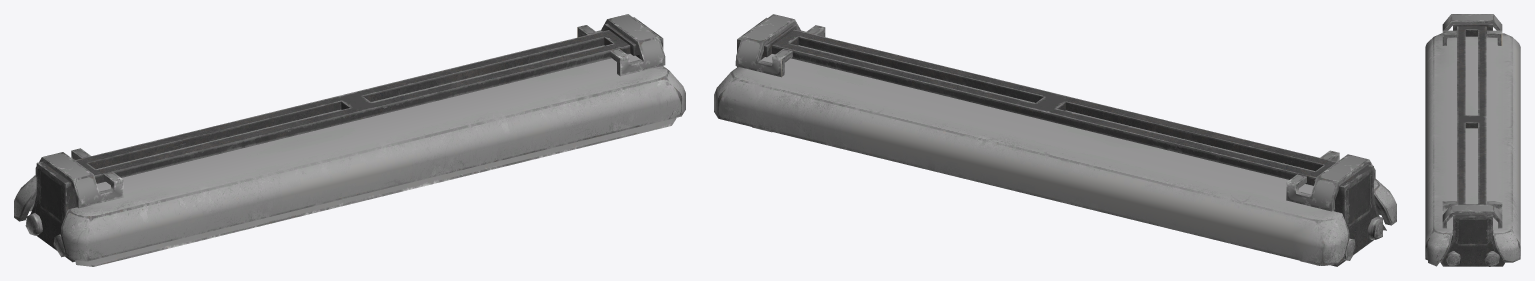
File: SM_Ceiling_Lamp.glb
3 renders of one model, left to right at view 1: azimuth 30°, elevation 25°; view 2: azimuth 150°, elevation 25°; view 3: azimuth 270°, elevation 25°, orthographic. The views are drawn at different scales.
Parts seen in each view (by area): view 1: SM_Ceiling_Lamp; view 2: SM_Ceiling_Lamp; view 3: SM_Ceiling_Lamp.
Part boxes in pixels (<box>): SM_Ceiling_Lamp: <box>14,14,685,266</box>; SM_Ceiling_Lamp: <box>714,14,1396,266</box>; SM_Ceiling_Lamp: <box>1425,14,1520,266</box>.
Bounding box in the file's own units: 1.75 × 0.2318 × 0.3403.
Materials: 1 (1 with a texture image).
